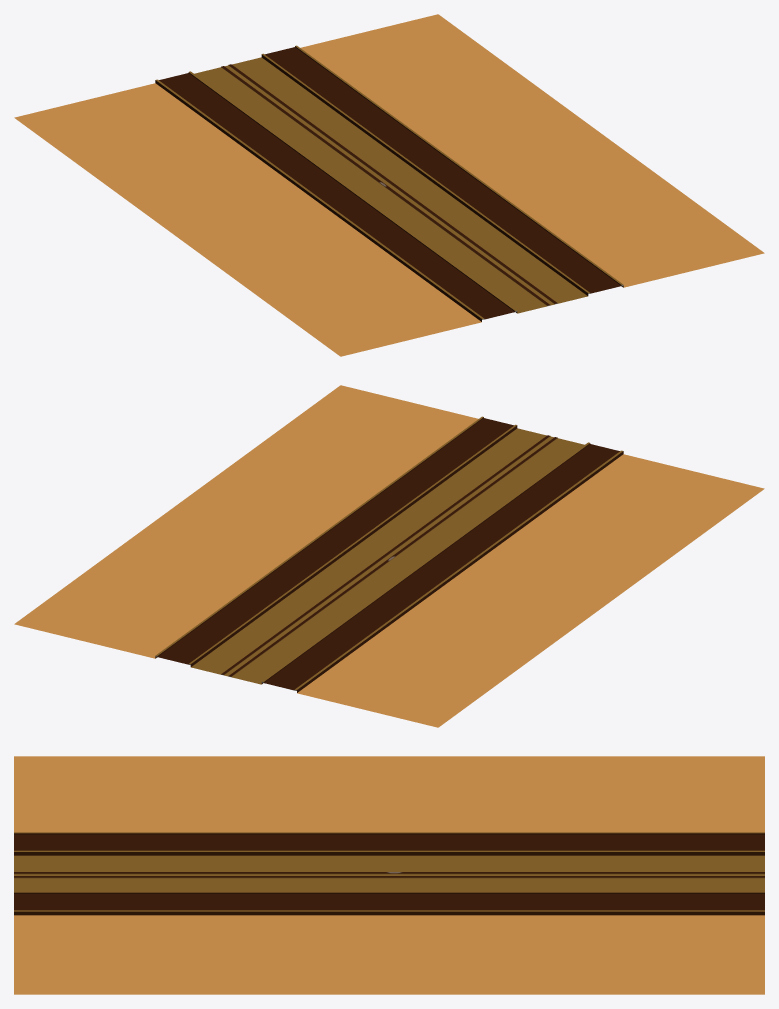
The model's file is Road 1.2.fbx.
The picture shows the model from 3 angles, top to bottom: view 1: azimuth 30°, elevation 25°; view 2: azimuth 150°, elevation 25°; view 3: azimuth 270°, elevation 25°; orthographic projection. The views are drawn at different scales.
Parts seen in each view (by area): view 1: Plane; view 2: Plane; view 3: Plane.
Part boxes in pixels (x1,y1,x2,y2): Plane: (14,14,764,356); Plane: (14,385,764,727); Plane: (14,756,764,994).
Size of the model in its own units: 12 by 0.086 by 16.
